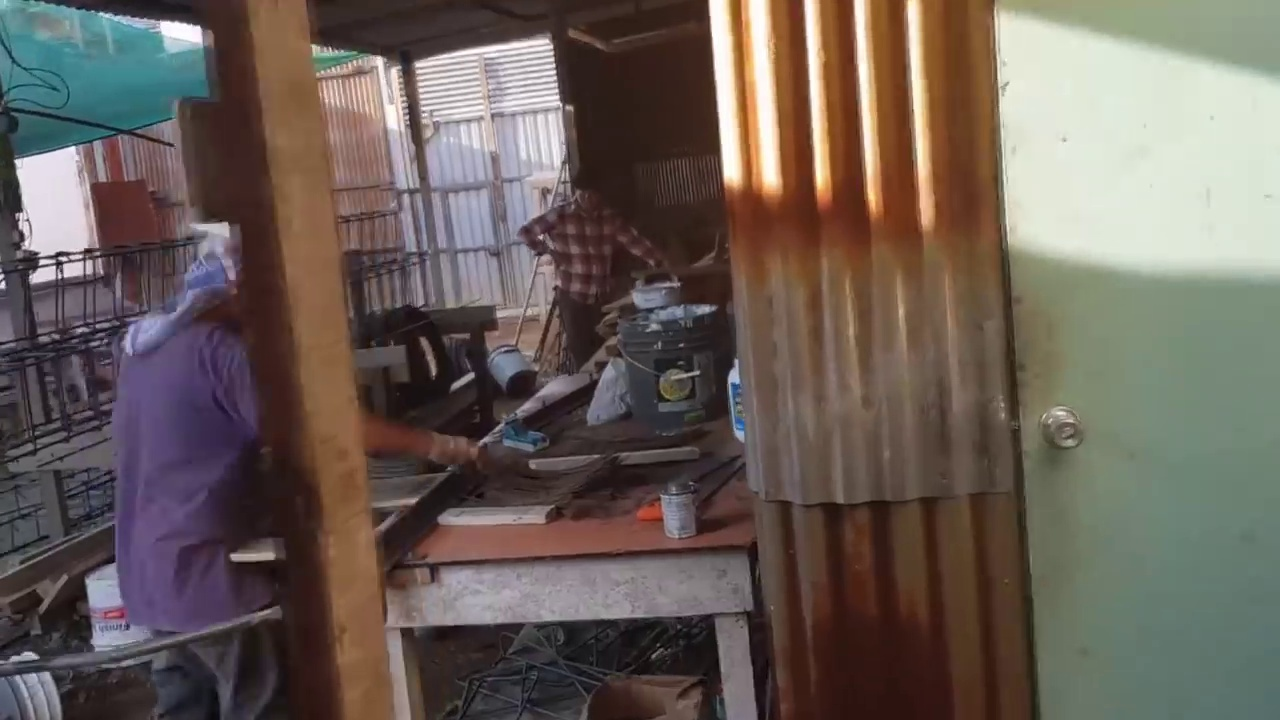helmet-off: (566, 159, 628, 234)
person: (111, 200, 272, 710), (513, 159, 650, 381)
